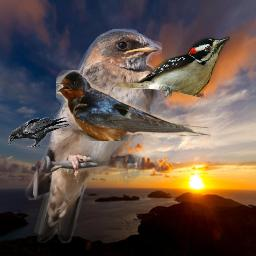Crow: (8, 117, 70, 147)
Swallow: (25, 28, 162, 243), (56, 70, 211, 141)
Woodpecker: (115, 34, 230, 100)
